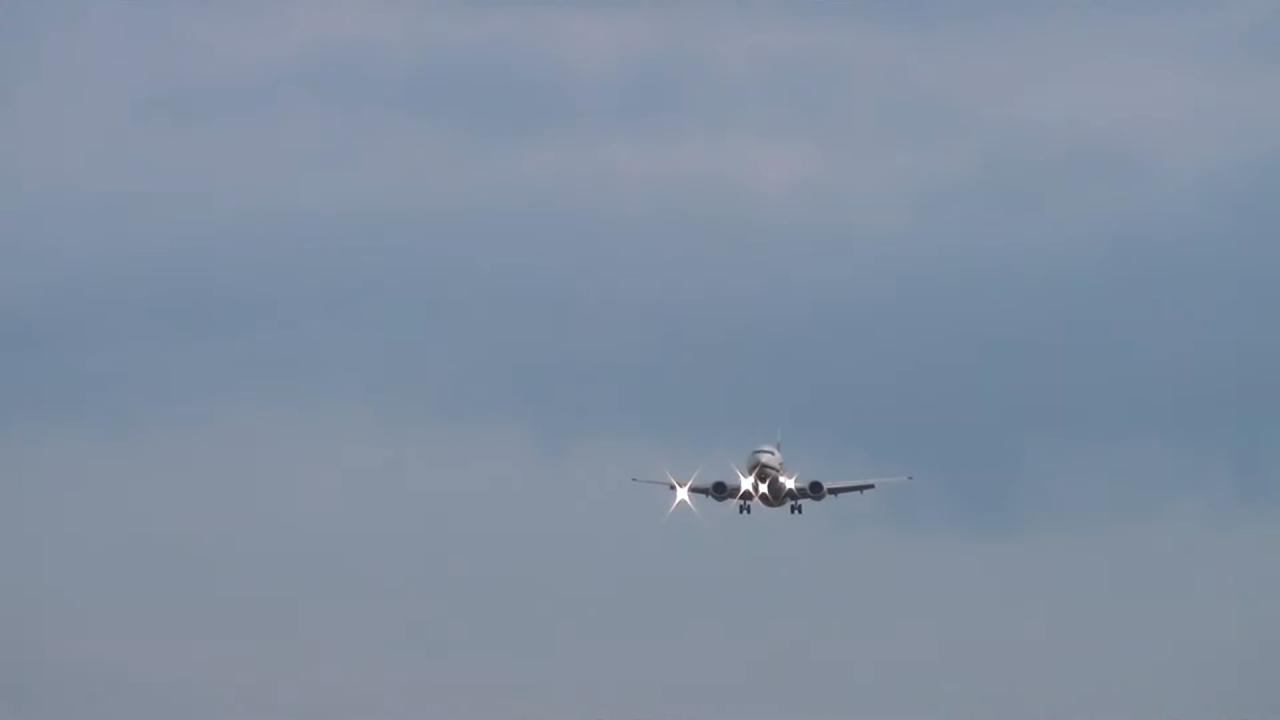Airplane: (622, 416, 922, 523)
